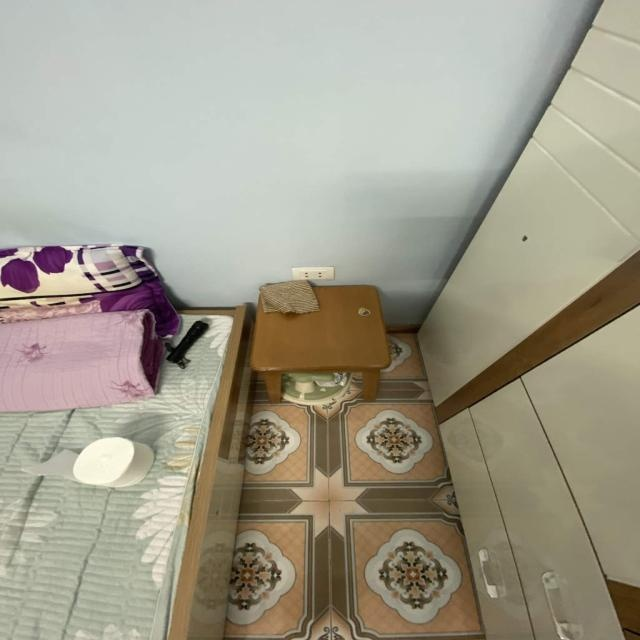outlet: (292, 267, 335, 281)
